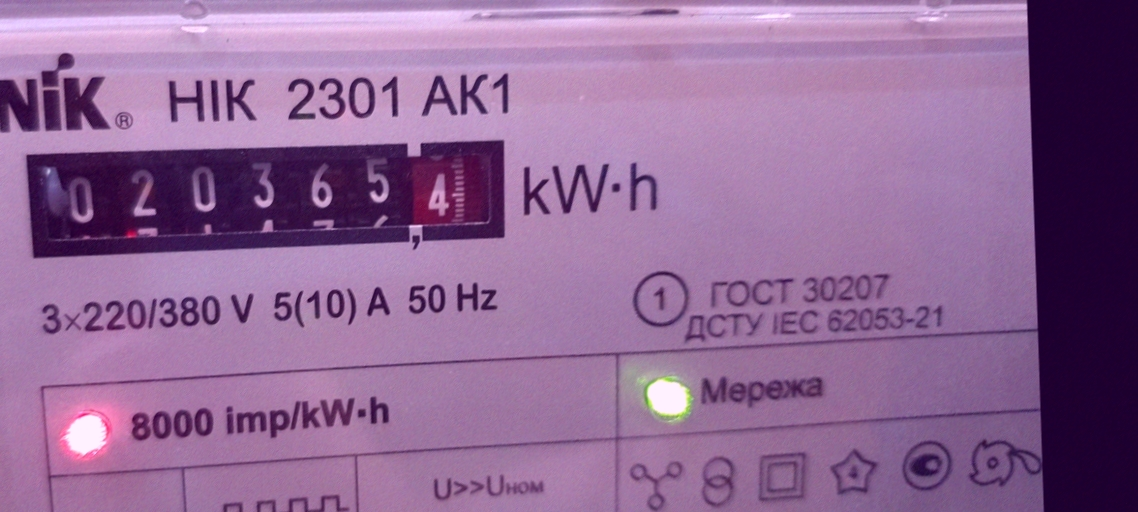0: (63, 169, 97, 225), (188, 162, 219, 213)
2: (126, 164, 158, 216)
3: (247, 158, 277, 208)
4: (424, 167, 449, 216)
5: (364, 155, 392, 202)
6: (306, 157, 333, 208)
screen: (11, 119, 523, 273)
